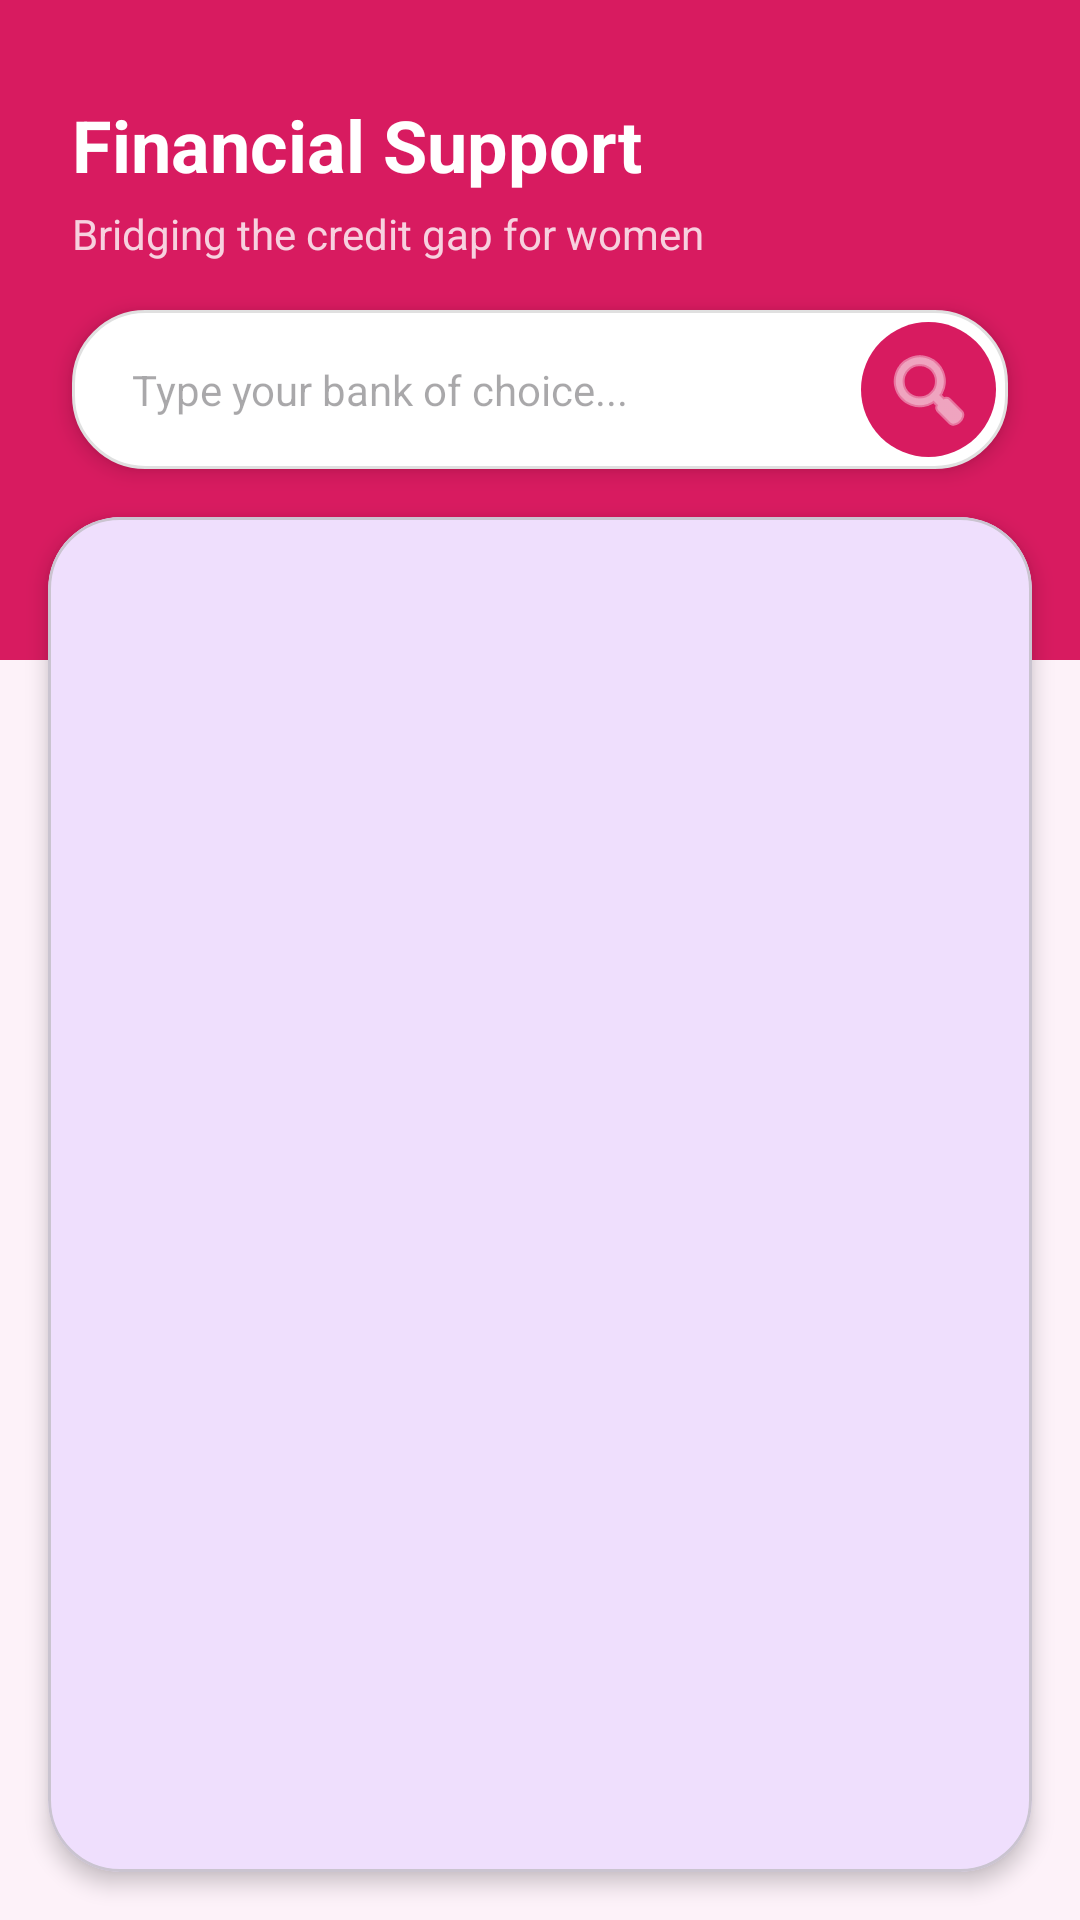

Icon bounding boxes for this 1080 × 1920 phone screenshot, format (x1, y1, x2, y2):
Search Bank: (861, 322, 996, 457)
